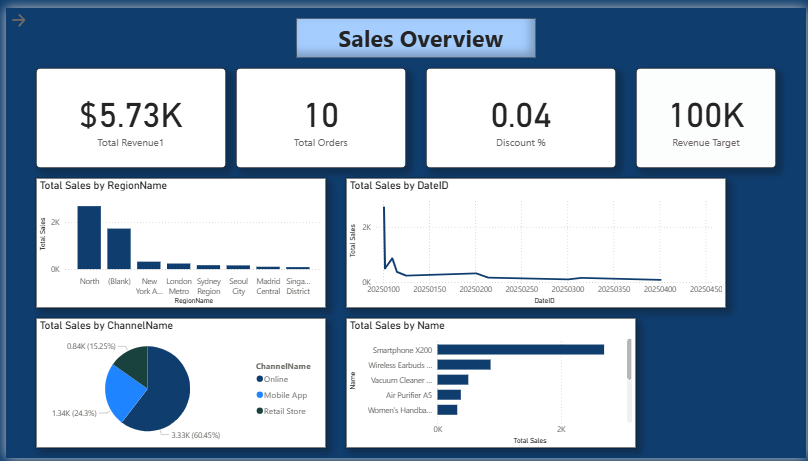

The dashboard page shown, as its layout file describes it:
{"tool":"powerbi","page":{"name":"Sales Overview","canvas":[1280,720],"ordinal":0},"visuals":[{"type":"card","fields":{"Values":["dim_fact.Total Orders"]},"box":[368,96,272,160],"z":0},{"type":"columnChart","fields":{"Category":["dim_region.RegionName"],"Y":["dim_fact.Total Sales"]},"box":[48,272,464,208],"z":1000},{"type":"lineChart","fields":{"Category":["dim_date.DateID"],"Y":["dim_fact.Total Sales"]},"box":[544,272,608,208],"z":2000},{"type":"pieChart","fields":{"Category":["dim_channel.ChannelName"],"Y":["dim_fact.Total Sales"]},"box":[48,496,464,208],"z":3000},{"type":"barChart","fields":{"Category":["dim_product.Name"],"Y":["dim_fact.Total Sales"]},"box":[544,496,464,208],"z":4000},{"type":"textbox","box":[464,16,384,64],"z":5000},{"type":"card","fields":{"Values":["dim_channel.Total Revenue1"]},"box":[48,96,304,160],"z":6000},{"type":"card","fields":{"Values":["dim_channel.Discount %"]},"box":[672,96,304,160],"z":7000},{"type":"card","fields":{"Values":["dim_fact.Revenue Target"]},"box":[1008,96,224,160],"z":8000},{"type":"actionButton","box":[0,0,100,40],"z":10000}]}

Visuals, with their boxes in screenshot pixels (x1, y1, x2, y2), scaled from the page's 1280x720 canvas onto the 808x461 screenshot:
card - dim_fact.Total Orders: Rect(232, 61, 404, 164)
columnChart - dim_region.RegionName x dim_fact.Total Sales: Rect(30, 174, 323, 307)
lineChart - dim_date.DateID x dim_fact.Total Sales: Rect(343, 174, 727, 307)
pieChart - dim_channel.ChannelName x dim_fact.Total Sales: Rect(30, 318, 323, 451)
barChart - dim_product.Name x dim_fact.Total Sales: Rect(343, 318, 636, 451)
textbox: Rect(293, 10, 535, 51)
card - dim_channel.Total Revenue1: Rect(30, 61, 222, 164)
card - dim_channel.Discount %: Rect(424, 61, 616, 164)
card - dim_fact.Revenue Target: Rect(636, 61, 778, 164)
actionButton: Rect(0, 0, 63, 26)
